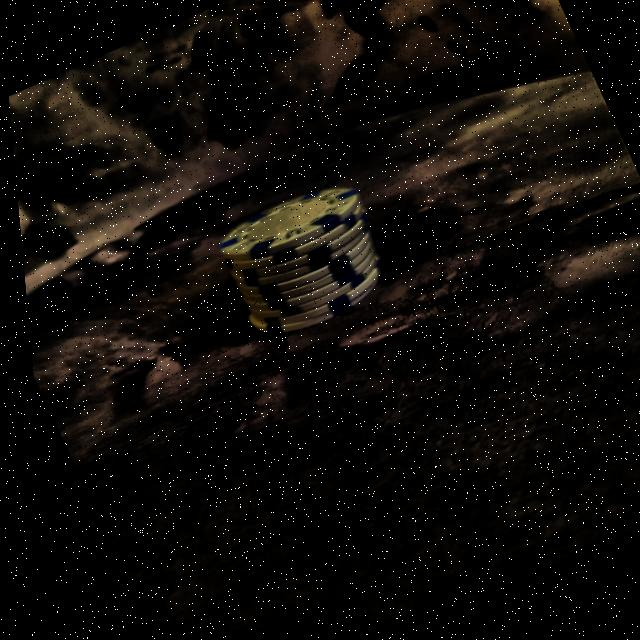Chip: (190, 154, 405, 372)
